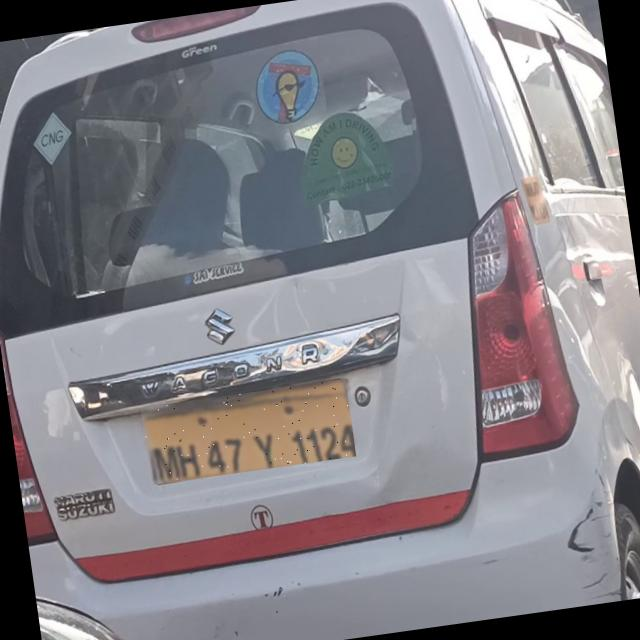Plate: (142, 380, 358, 486)
